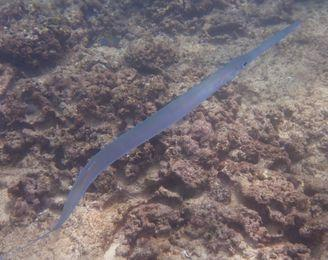Fistularia commersonii: (27, 16, 303, 244)
